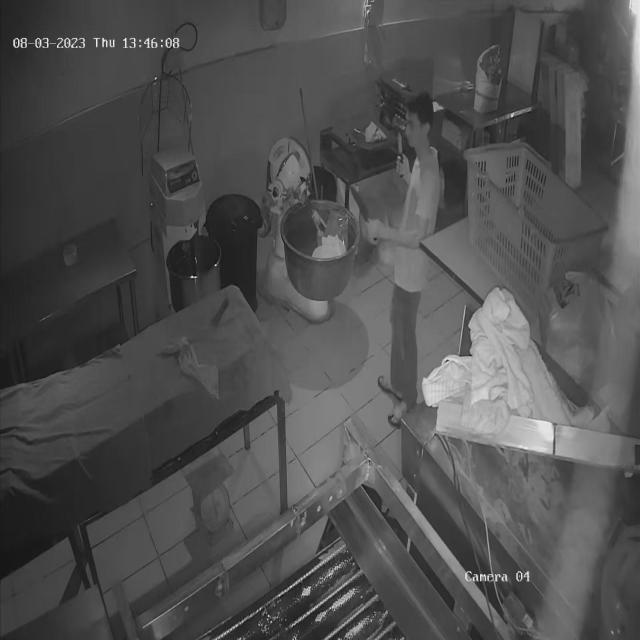Knife: (342, 193, 398, 247), (392, 128, 412, 164)
